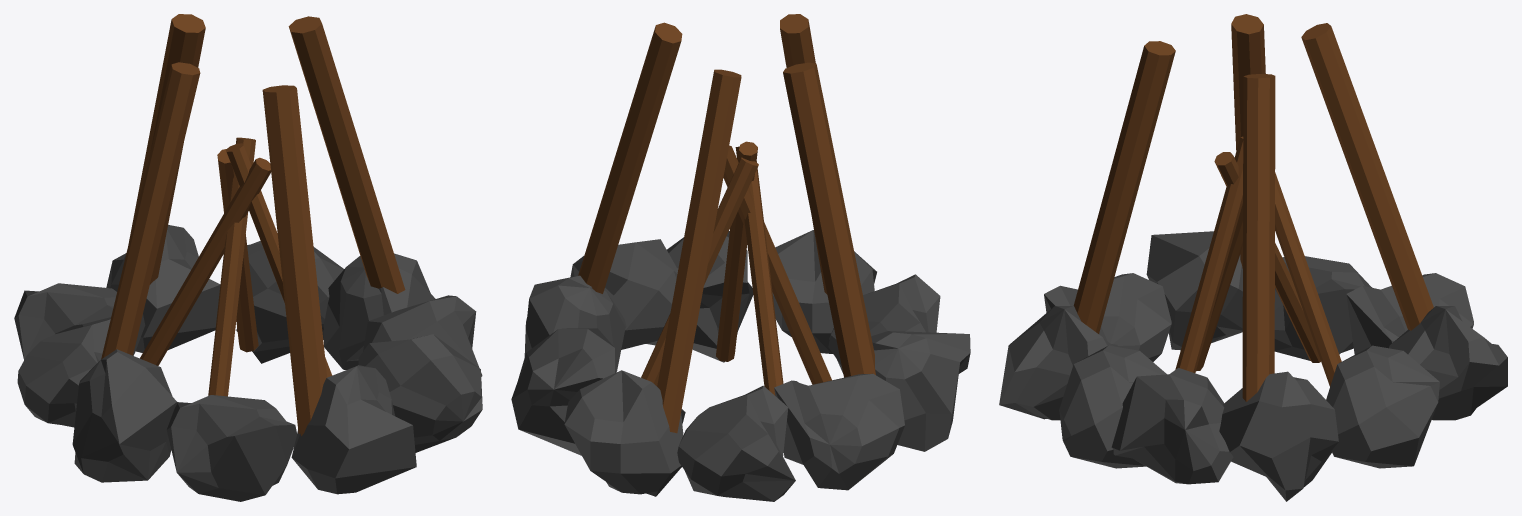
Rendered from Kampvuur.FBX.
3 renders of one model, left to right at view 1: azimuth 30°, elevation 25°; view 2: azimuth 150°, elevation 25°; view 3: azimuth 270°, elevation 25°, orthographic.
Visible parts, largest first — view 1: Cylinder003, Sphere001, Sphere008, Sphere002, Cylinder002, Cylinder001, Sphere003, Sphere009, Sphere007, Sphere004, Sphere005, Cylinder008 (+6 smaller); view 2: Cylinder001, Sphere007, Sphere004, Cylinder004, Sphere005, Cylinder002, Sphere008, Sphere006, Sphere010, Sphere009, Sphere001, Cylinder008 (+6 smaller); view 3: Sphere006, Sphere010, Cylinder002, Cylinder004, Sphere009, Cylinder003, Sphere004, Sphere003, Sphere001, Sphere008, Sphere002, Sphere005 (+6 smaller).
Part boxes in pixels (x1=…): Cylinder003: x1=262, y1=85, x2=327, y2=436; Sphere001: x1=291, y1=365, x2=416, y2=494; Sphere008: x1=72, y1=349, x2=177, y2=482; Sphere002: x1=167, y1=395, x2=297, y2=501; Cylinder002: x1=288, y1=16, x2=405, y2=293; Cylinder001: x1=101, y1=62, x2=200, y2=359; Sphere003: x1=358, y1=334, x2=482, y2=452; Sphere009: x1=323, y1=253, x2=435, y2=369; Sphere007: x1=17, y1=318, x2=110, y2=427; Sphere004: x1=106, y1=225, x2=220, y2=352; Sphere005: x1=14, y1=283, x2=145, y2=359; Cylinder008: x1=140, y1=157, x2=270, y2=365; Cylinder001: x1=783, y1=62, x2=875, y2=377; Sphere007: x1=774, y1=373, x2=904, y2=490; Sphere004: x1=564, y1=370, x2=685, y2=496; Cylinder004: x1=657, y1=69, x2=741, y2=433; Sphere005: x1=677, y1=385, x2=795, y2=501; Cylinder002: x1=578, y1=22, x2=682, y2=293; Sphere008: x1=871, y1=331, x2=970, y2=451; Sphere006: x1=511, y1=328, x2=614, y2=455; Sphere010: x1=570, y1=239, x2=677, y2=349; Sphere009: x1=524, y1=275, x2=626, y2=372; Sphere001: x1=772, y1=230, x2=876, y2=353; Cylinder008: x1=735, y1=146, x2=783, y2=395; Sphere006: x1=1326, y1=345, x2=1439, y2=468; Sphere010: x1=1111, y1=368, x2=1233, y2=484; Cylinder002: x1=1242, y1=74, x2=1275, y2=401; Cylinder004: x1=1301, y1=23, x2=1433, y2=330; Sphere009: x1=1219, y1=371, x2=1338, y2=501; Cylinder003: x1=1073, y1=41, x2=1175, y2=333; Sphere004: x1=1389, y1=306, x2=1507, y2=420; Sphere003: x1=1059, y1=345, x2=1166, y2=468; Sphere001: x1=999, y1=306, x2=1118, y2=420; Sphere008: x1=1146, y1=231, x2=1242, y2=350; Sphere002: x1=1044, y1=273, x2=1171, y2=361; Sphere005: x1=1346, y1=273, x2=1473, y2=354.
Size of the model in its own units: 29.65 by 28.24 by 33.32.
